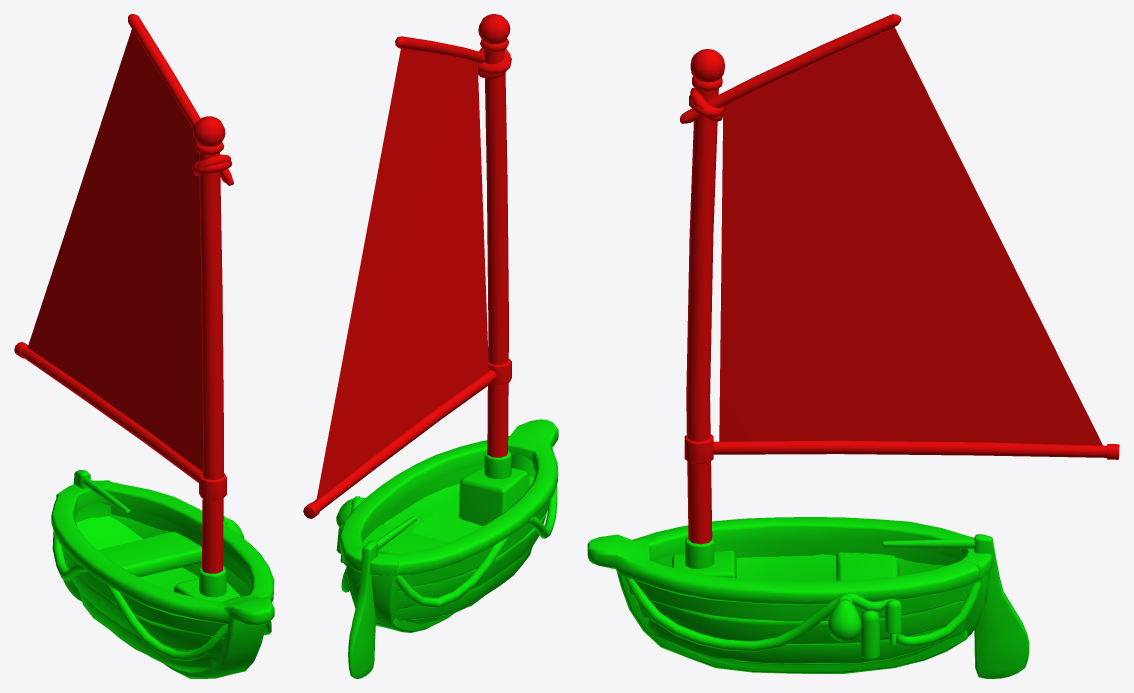
Rendered from Boat_Textured (2).fbx.
3 views of the same model, side by side, from view 1: azimuth 30°, elevation 25°; view 2: azimuth 150°, elevation 25°; view 3: azimuth 270°, elevation 25° (orthographic). The views are drawn at different scales.
Parts seen in each view (by area): view 1: Sail, Boat, Mast, Rudder; view 2: Sail, Boat, Mast, Rudder; view 3: Sail, Boat, Mast, Rudder, Bouy, Bouy2.
Boxes of the visible parts, x1,y1,x2,y2 form: Sail: [27, 29, 202, 471]; Boat: [51, 480, 274, 678]; Mast: [14, 14, 233, 573]; Rudder: [63, 470, 130, 601]; Sail: [316, 48, 488, 501]; Boat: [339, 419, 558, 632]; Mast: [303, 14, 511, 518]; Rudder: [348, 516, 417, 678]; Sail: [719, 27, 1102, 445]; Boat: [587, 517, 992, 673]; Mast: [680, 14, 1119, 544]; Rudder: [883, 534, 1029, 678]; Bouy: [828, 594, 861, 641]; Bouy2: [860, 610, 879, 659].
Bounding box in the file's own units: 64.75 × 227 × 163.
